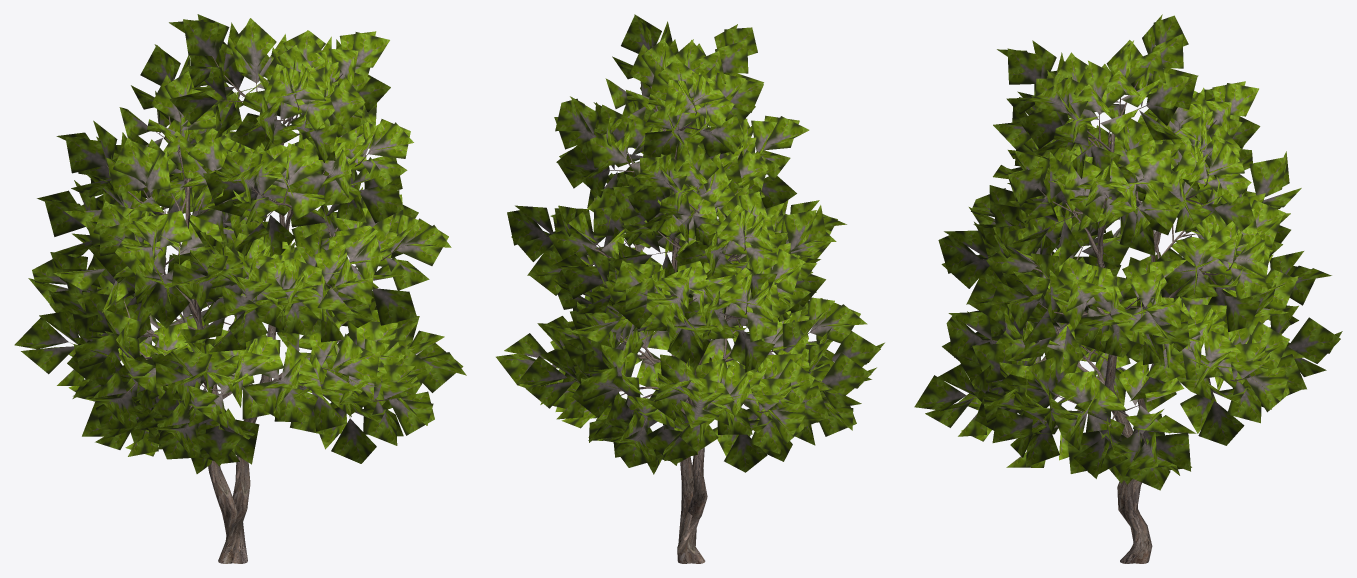
The model's file is detailedTree.glb.
3 views of the same model, side by side, from view 1: azimuth 30°, elevation 25°; view 2: azimuth 150°, elevation 25°; view 3: azimuth 270°, elevation 25° (orthographic). The views are drawn at different scales.
Visible parts, largest first — view 1: tree; view 2: tree; view 3: tree.
Part boxes in pixels (bbox=[...]): tree: bbox=[14, 14, 466, 563]; tree: bbox=[496, 14, 884, 563]; tree: bbox=[914, 14, 1342, 563].
Bounding box in the file's own units: 7.8 × 11.19 × 8.23.
2 materials, 2 textured.
